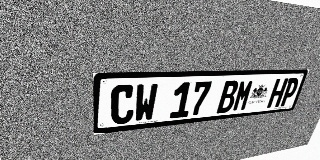1: (169, 82, 194, 119)
7: (188, 81, 212, 117)
B: (216, 80, 240, 113)
C: (110, 84, 135, 125)
H: (266, 78, 289, 108)
M: (232, 80, 255, 112)
P: (279, 78, 300, 107)
W: (133, 83, 158, 123)
